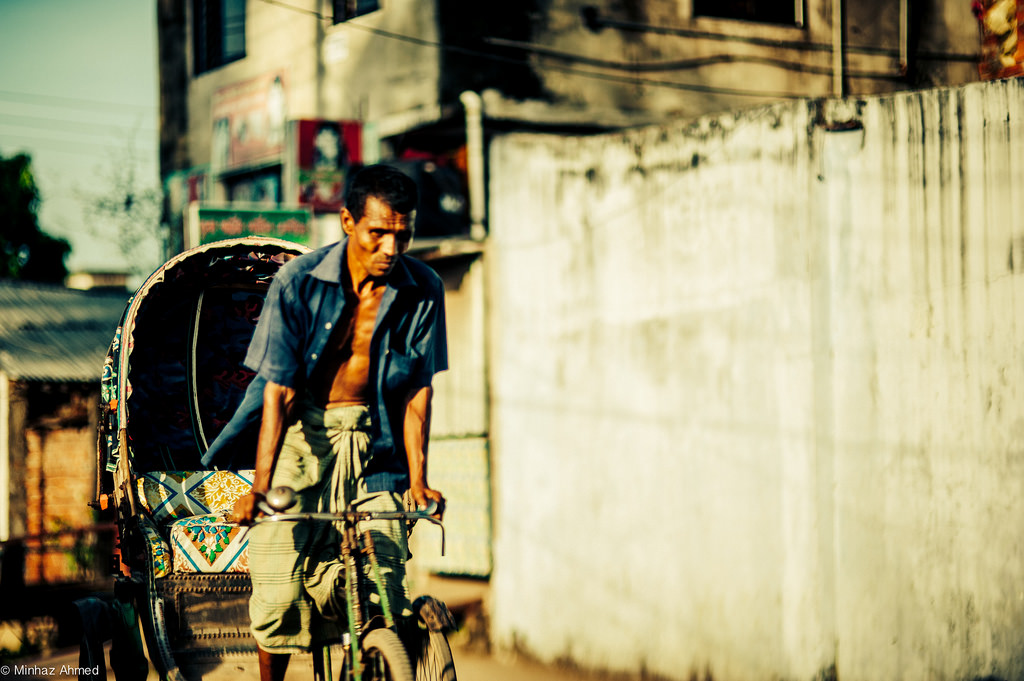Rickshaw: (95, 228, 386, 676)
